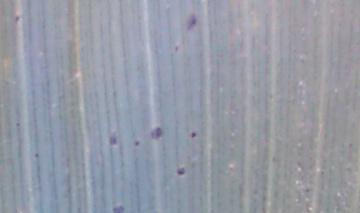tarspot: (186, 12, 198, 32), (149, 125, 163, 141), (109, 203, 125, 213), (107, 134, 118, 147), (175, 165, 186, 176), (12, 14, 23, 24), (13, 120, 22, 129), (133, 139, 141, 148), (32, 150, 40, 159), (173, 43, 179, 55), (190, 130, 197, 140)
